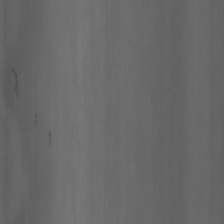water_spot: (9, 61, 22, 98), (46, 127, 57, 150), (31, 104, 40, 130)
